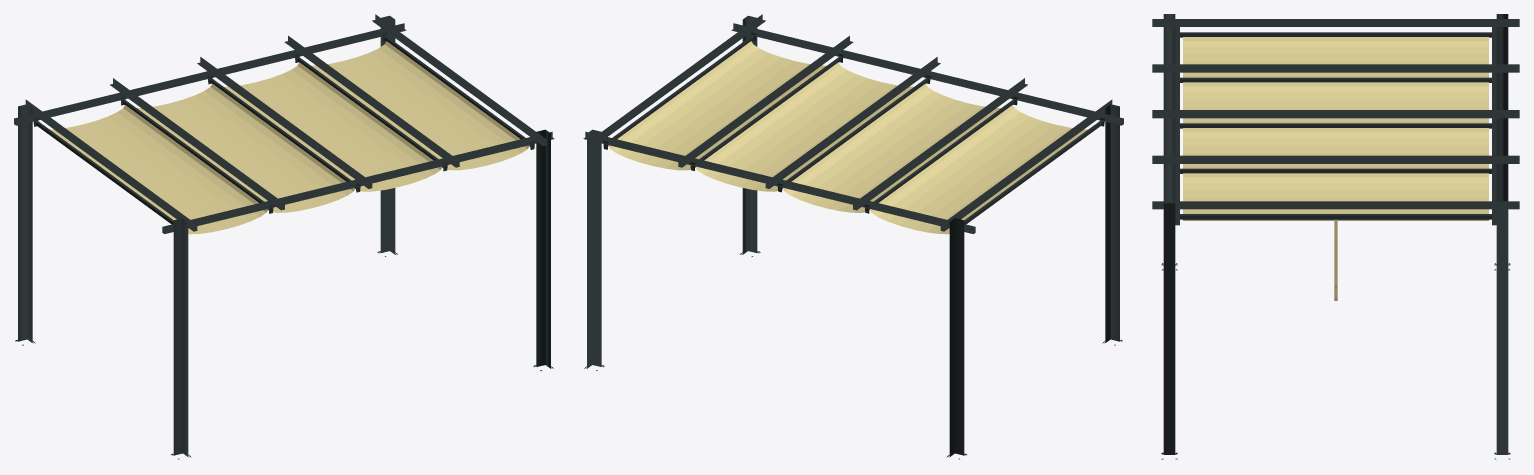
3 renders of one model, left to right at view 1: azimuth 30°, elevation 25°; view 2: azimuth 150°, elevation 25°; view 3: azimuth 270°, elevation 25°, orthographic. The views are drawn at different scales.
Parts seen in each view (by area): view 1: priximbattable_net_pergola_toile_1532_pergola_toile_et_alumi, Tube_2, Tube_3, Tube_4, Tube_5, barra, barra_4, barra_3, barra_1, barra_2; view 2: priximbattable_net_pergola_toile_1532_pergola_toile_et_alumi, Tube_2, Tube_3, Tube_4, Tube_5, barra, barra_4, barra_1, barra_3, barra_2; view 3: priximbattable_net_pergola_toile_1532_pergola_toile_et_alumi, Tube_2, Tube_4, Tube_5, Tube_3, barra_4, barra_3, barra_1, barra_2, barra.
Part boxes in pixels (x1=…): priximbattable_net_pergola_toile_1532_pergola_toile_et_alumi: x1=14, y1=14, x2=554, y2=459; Tube_2: x1=311, y1=41, x2=529, y2=170; Tube_3: x1=224, y1=62, x2=442, y2=191; Tube_4: x1=137, y1=84, x2=355, y2=212; Tube_5: x1=50, y1=105, x2=268, y2=234; barra: x1=33, y1=118, x2=173, y2=224; barra_4: x1=382, y1=33, x2=534, y2=148; barra_3: x1=295, y1=54, x2=447, y2=170; barra_1: x1=120, y1=96, x2=272, y2=213; barra_2: x1=208, y1=75, x2=359, y2=190; priximbattable_net_pergola_toile_1532_pergola_toile_et_alumi: x1=583, y1=14, x2=1123, y2=459; Tube_2: x1=608, y1=41, x2=826, y2=170; Tube_3: x1=695, y1=62, x2=913, y2=191; Tube_4: x1=782, y1=84, x2=1000, y2=212; Tube_5: x1=869, y1=105, x2=1087, y2=234; barra: x1=964, y1=118, x2=1104, y2=224; barra_4: x1=604, y1=32, x2=755, y2=148; barra_1: x1=865, y1=96, x2=1017, y2=212; barra_3: x1=691, y1=54, x2=843, y2=170; barra_2: x1=779, y1=75, x2=930, y2=190; priximbattable_net_pergola_toile_1532_pergola_toile_et_alumi: x1=1152, y1=14, x2=1519, y2=459; Tube_2: x1=1183, y1=173, x2=1488, y2=220; Tube_4: x1=1183, y1=82, x2=1488, y2=123; Tube_5: x1=1183, y1=37, x2=1488, y2=77; Tube_3: x1=1183, y1=128, x2=1488, y2=168; barra_4: x1=1180, y1=214, x2=1491, y2=219; barra_3: x1=1180, y1=168, x2=1491, y2=173; barra_1: x1=1180, y1=77, x2=1491, y2=82; barra_2: x1=1180, y1=123, x2=1491, y2=128; barra: x1=1180, y1=32, x2=1491, y2=37.
Size of the model in its own units: 420 by 242 by 320.
Materials: 1 (1 with a texture image).
